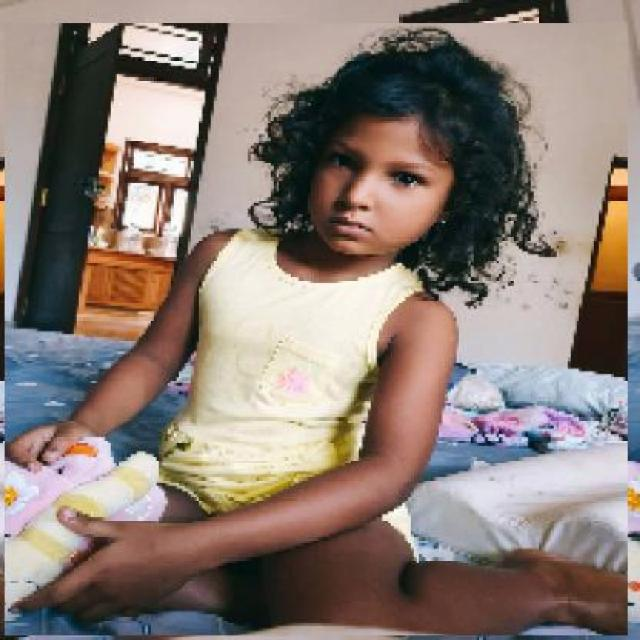child: (3, 23, 628, 637)
